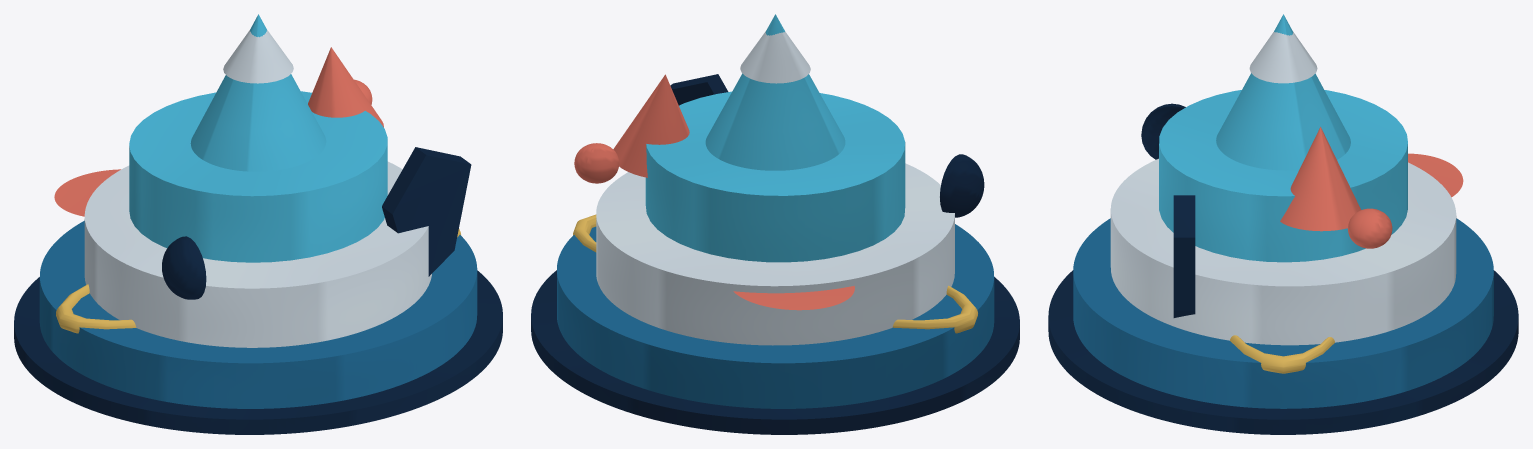
The model's file is 0785_天气与气候图鉴_地中海蓝钟花.glb.
The picture shows the model from 3 angles, left to right: view 1: azimuth 30°, elevation 25°; view 2: azimuth 150°, elevation 25°; view 3: azimuth 270°, elevation 25°; orthographic projection.
Parts seen in each view (by area): view 1: card_0785; view 2: card_0785; view 3: card_0785.
Part boxes in pixels (<box>): card_0785: <box>14,14,502,434</box>; card_0785: <box>531,14,1019,434</box>; card_0785: <box>1048,14,1518,434</box>.
Bounding box in the file's own units: 1.4 × 1 × 1.34.
